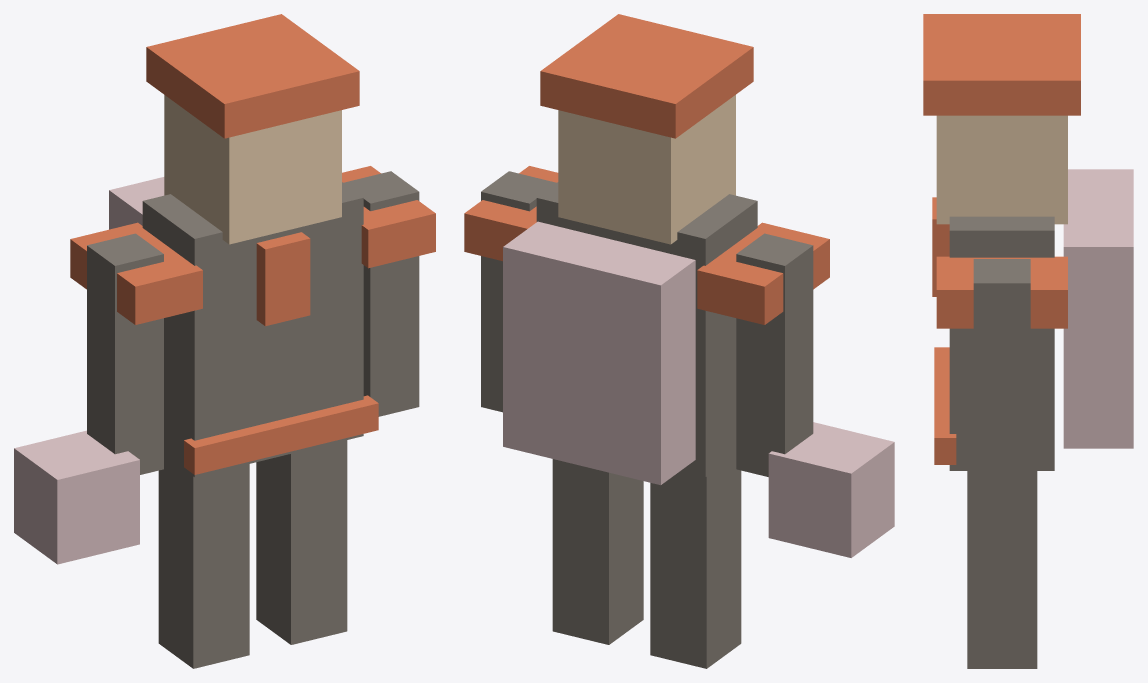
Rendered from 02_kael_mossguard_broker_near.glb.
3 views of the same model, side by side, from view 1: azimuth 30°, elevation 25°; view 2: azimuth 150°, elevation 25°; view 3: azimuth 270°, elevation 25° (orthographic).
Parts seen in each view (by area): view 1: Kael Mossguard, Broker near; view 2: Kael Mossguard, Broker near; view 3: Kael Mossguard, Broker near.
Boxes of the visible parts, x1,y1,x2,y2 form: Kael Mossguard, Broker near: (14,14,435,668); Kael Mossguard, Broker near: (464,14,894,668); Kael Mossguard, Broker near: (923,14,1133,668).
Bounding box in the file's own units: 0.9371 × 1.39 × 0.452.
